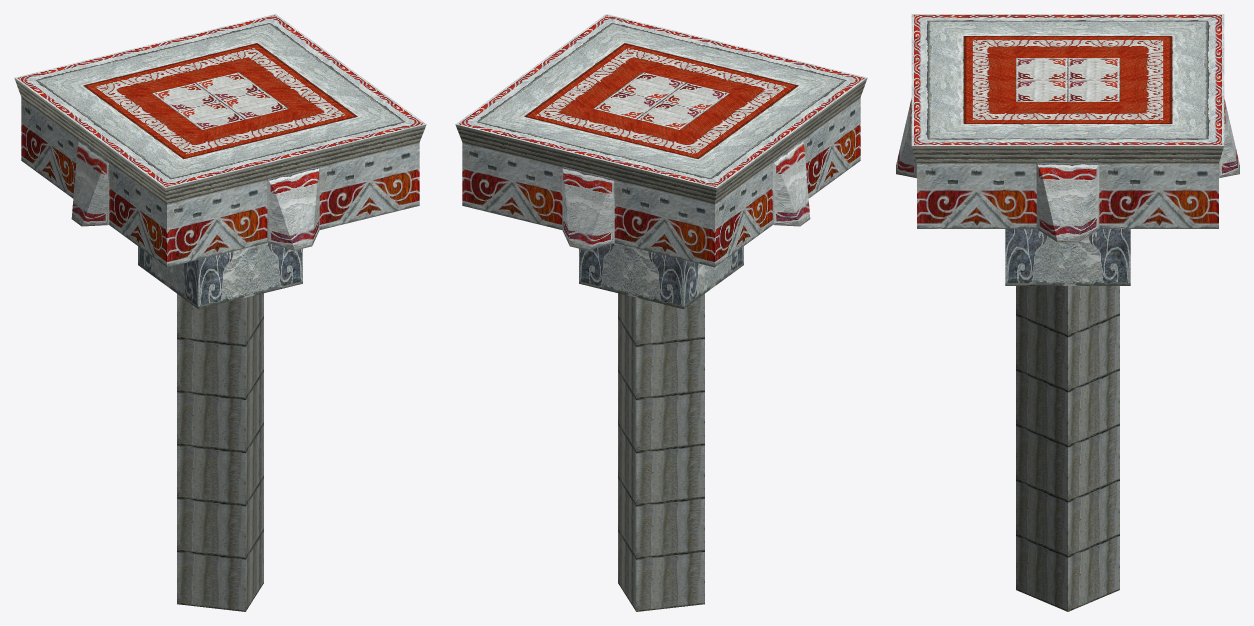
File: RisingPlatform.obj
3 views of the same model, side by side, from view 1: azimuth 30°, elevation 25°; view 2: azimuth 150°, elevation 25°; view 3: azimuth 270°, elevation 25° (orthographic). The views are drawn at different scales.
Size of the model in its own units: 165 by 270 by 165.
10 materials, 10 textured.
